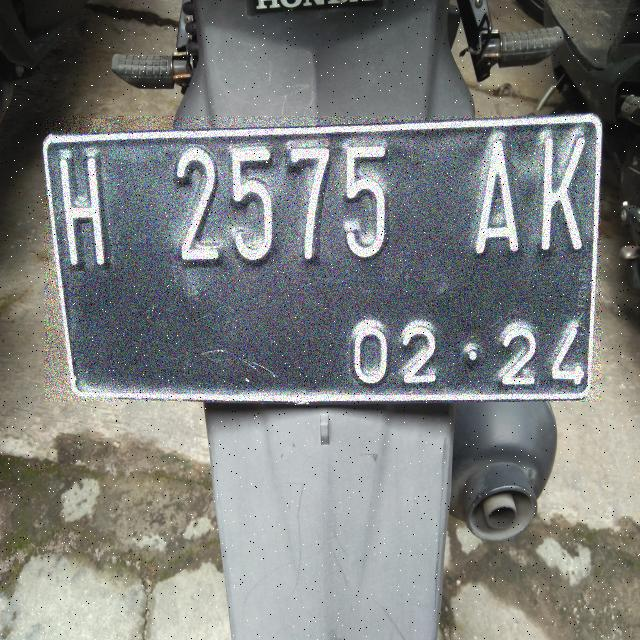plate: (45, 116, 600, 401)
